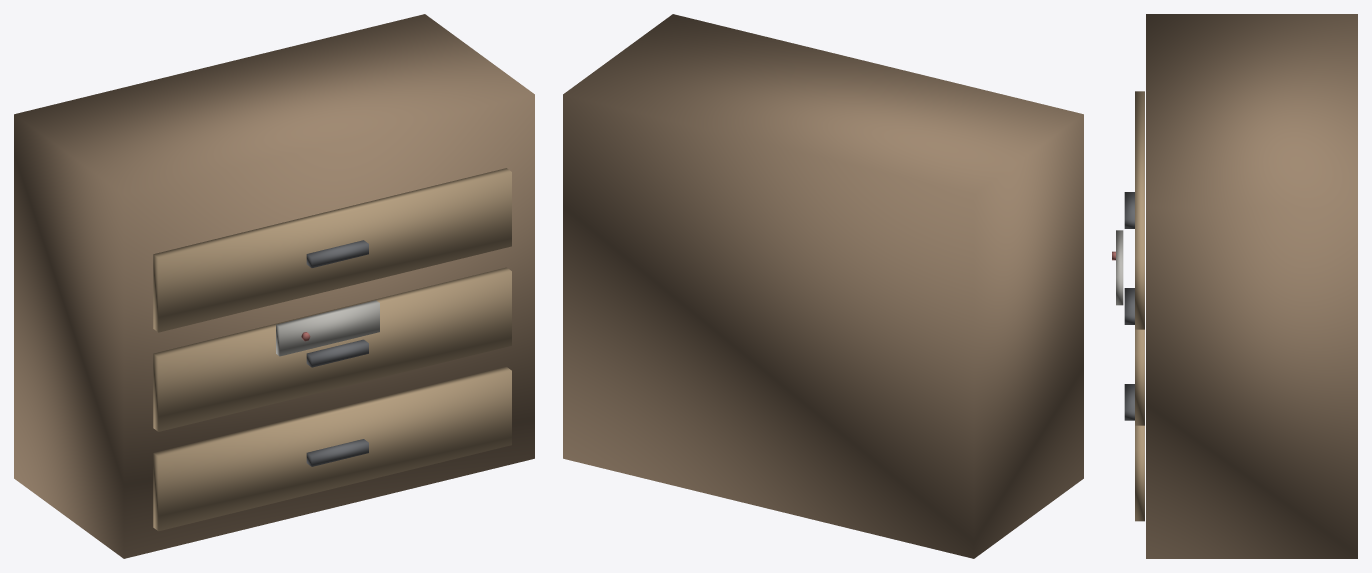
Rendered from motel_dresser__compact.glb.
The picture shows the model from 3 angles, left to right: view 1: azimuth 30°, elevation 25°; view 2: azimuth 150°, elevation 25°; view 3: azimuth 270°, elevation 25°; orthographic projection. The views are drawn at different scales.
Visible parts, largest first — view 1: world; view 2: world; view 3: world.
Part boxes in pixels (x1,y1,x2,y2): world: (14,14,534,558); world: (563,14,1083,558); world: (1112,14,1357,558).
Size of the model in its own units: 0.966 by 0.8184 by 0.519.
